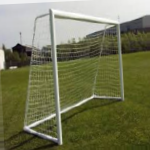goals: (23, 7, 126, 145)
